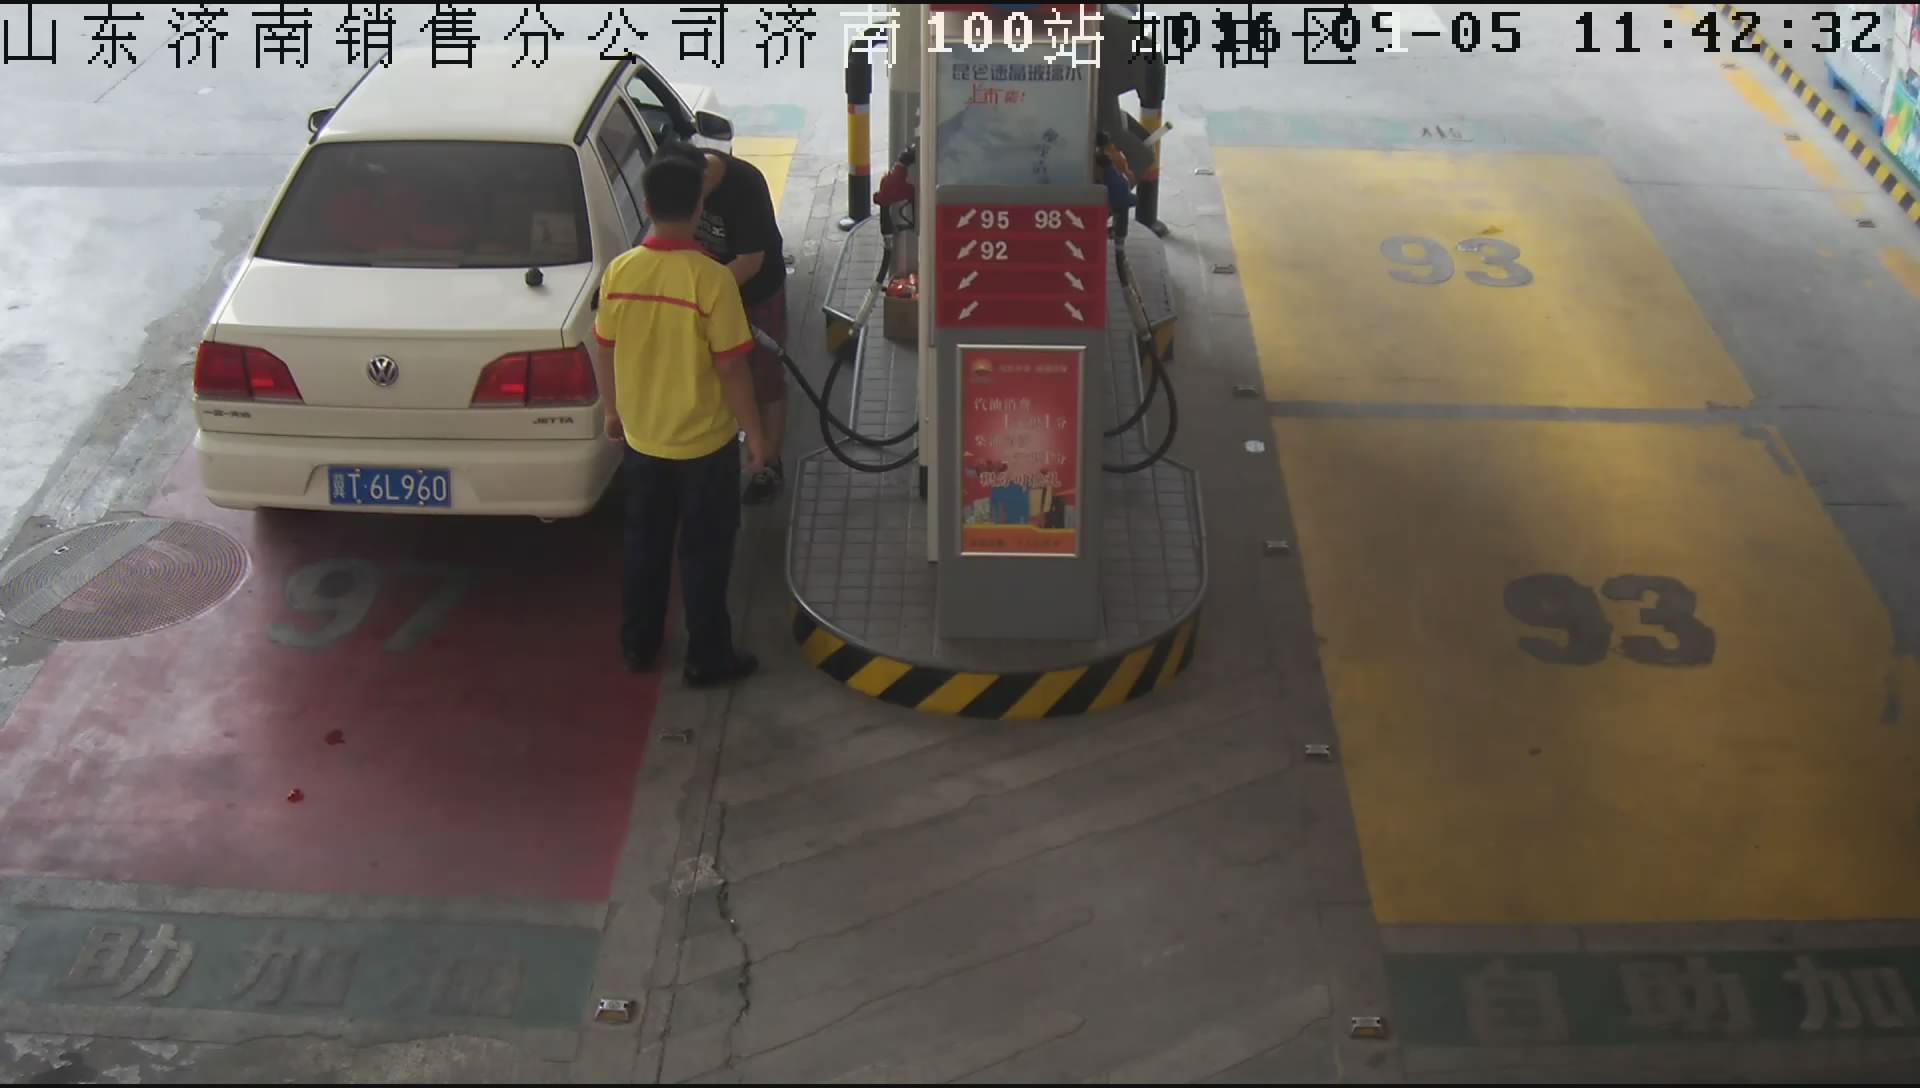blue: (327, 464, 454, 513)
